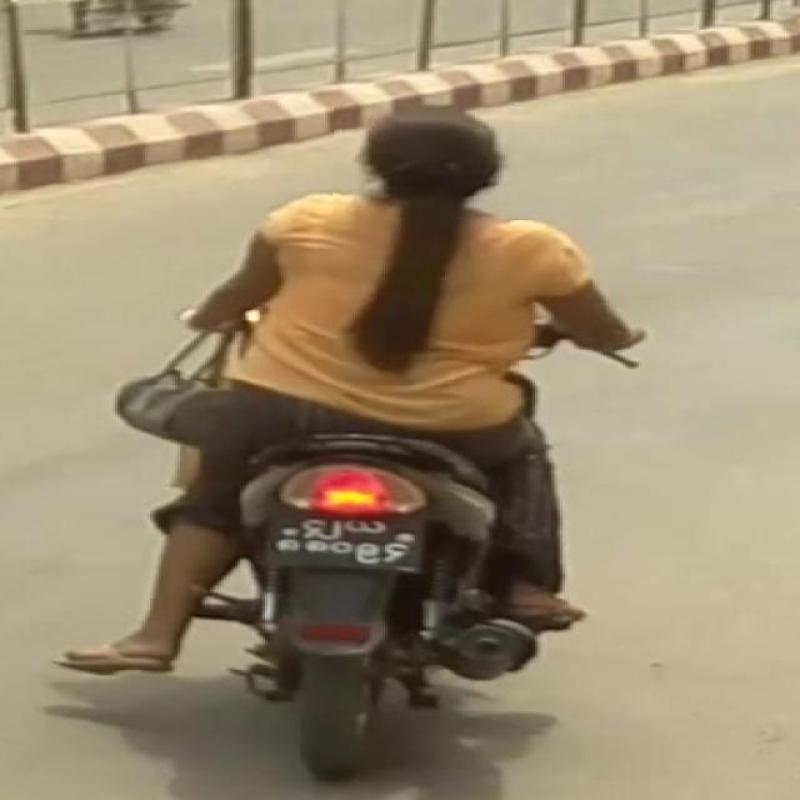nohelmet: (333, 102, 578, 219)
